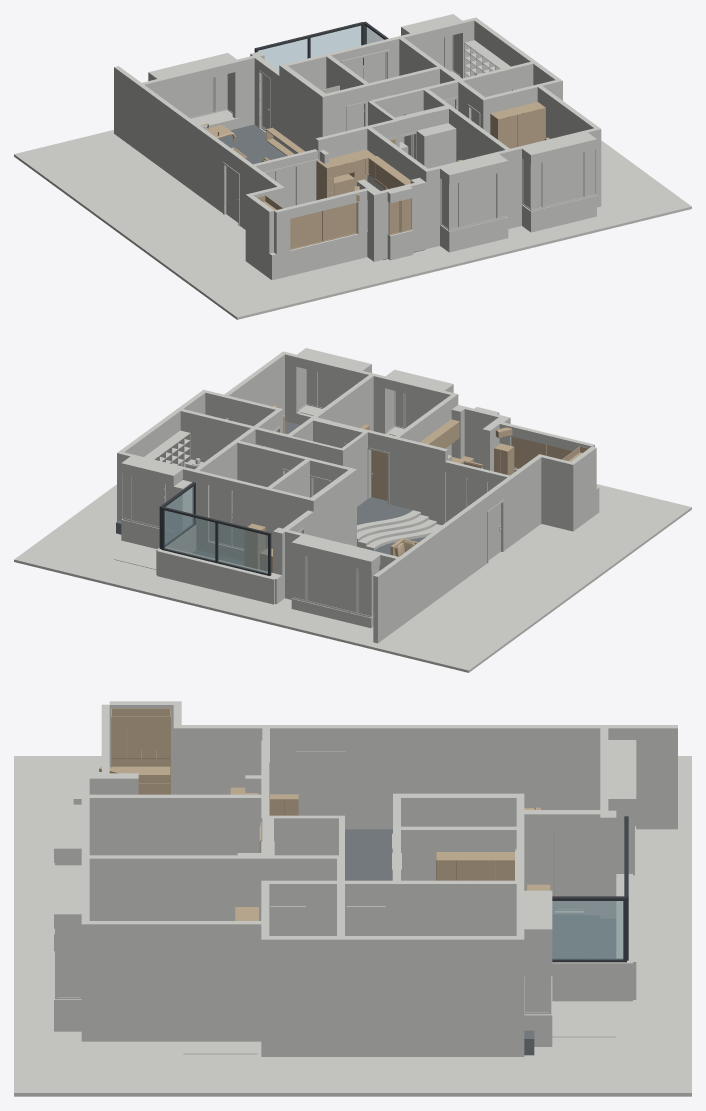
File: interaction_proxy.glb
The picture shows the model from 3 angles, top to bottom: view 1: azimuth 30°, elevation 25°; view 2: azimuth 150°, elevation 25°; view 3: azimuth 270°, elevation 25°; orthographic projection. The views are drawn at different scales.
Visible parts, largest first — view 1: SITE_GROUND.001, VIEW_WALL_W_wall_md_0006.001, VIEW_WALL_LIVING_FIX_GUEST_BATH_FULL_WALL.001, VIEW_WALL_W_wall_md_0042.001, VIEW_WALL_W_wall_md_0035.001, V4_W-MB-S_FRONT_GLASS_1.001, VIEW_WALL_W_wall_md_0034.001, V4_W-SMB-S_FRONT_GLASS_1.001, VIEW_WALL_W_wall_md_0007.001, VIEW_WALL_W_wall_md_0021.001, VIEW_WALL_W_wall_md_0030.001, VIEW_WALL_W_wall_md_0060.001 (+46 smaller); view 2: SITE_GROUND.001, VIEW_WALL_W_wall_md_0006.001, VIEW_WALL_W_wall_md_0062.001, VIEW_WALL_W_wall_md_0044.001, VIEW_WALL_W_wall_md_0005.001, VIEW_WALL_W_wall_md_0055.001, VIEW_WALL_W_wall_md_0043.001, VIEW_WALL_LIVING_FIX_GUEST_BATH_FULL_WALL.001, LIVING_FIX_BAY_FRONT_GLASS_1.001, VIEW_WALL_W_wall_md_0049.001, NORTH_BALCONY_GLASS_NORTH_B.001, VIEW_WALL_W_wall_md_0007.001 (+54 smaller); view 3: SITE_GROUND.001, VIEW_WALL_W_wall_md_0030.001, VIEW_WALL_W_wall_md_0033.001, VIEW_WALL_W_wall_md_0006.001, VIEW_WALL_W_wall_md_0021.001, VIEW_WALL_W_wall_md_0015.001, VIEW_WALL_W_wall_md_0032.001, VIEW_WALL_W_wall_md_0005.001, VIEW_WALL_W_wall_md_0025.001, FLOOR_LOWER.001, VIEW_WALL_W_wall_md_0007.001, NORTH_BALCONY_GLASS_EAST.001 (+38 smaller).
Part boxes in pixels (x1,y1,x2,y2): SITE_GROUND.001: (14,128,691,319); VIEW_WALL_W_wall_md_0006.001: (139,85,227,212); VIEW_WALL_LIVING_FIX_GUEST_BATH_FULL_WALL.001: (282,66,325,153); VIEW_WALL_W_wall_md_0042.001: (276,232,367,278); VIEW_WALL_W_wall_md_0035.001: (533,139,594,231); V4_W-MB-S_FRONT_GLASS_1.001: (543,152,583,206); VIEW_WALL_W_wall_md_0034.001: (451,161,505,251); V4_W-SMB-S_FRONT_GLASS_1.001: (460,174,496,226); VIEW_WALL_W_wall_md_0007.001: (114,66,141,150); VIEW_WALL_W_wall_md_0021.001: (449,107,509,161); VIEW_WALL_W_wall_md_0030.001: (537,86,598,138); VIEW_WALL_W_wall_md_0060.001: (232,55,254,128); SITE_GROUND.001: (14,484,691,672); VIEW_WALL_W_wall_md_0006.001: (399,495,487,624); VIEW_WALL_W_wall_md_0062.001: (157,547,277,604); VIEW_WALL_W_wall_md_0044.001: (396,437,441,524); VIEW_WALL_W_wall_md_0005.001: (499,456,541,550); VIEW_WALL_W_wall_md_0055.001: (196,470,266,561); VIEW_WALL_W_wall_md_0043.001: (541,455,575,531); VIEW_WALL_LIVING_FIX_GUEST_BATH_FULL_WALL.001: (311,470,354,545); LIVING_FIX_BAY_FRONT_GLASS_1.001: (307,556,356,612); VIEW_WALL_W_wall_md_0049.001: (180,409,253,462); NORTH_BALCONY_GLASS_NORTH_B.001: (164,510,215,560); VIEW_WALL_W_wall_md_0007.001: (373,559,400,643); SITE_GROUND.001: (14,756,691,1096); VIEW_WALL_W_wall_md_0030.001: (89,921,261,1041); VIEW_WALL_W_wall_md_0033.001: (345,936,516,1056); VIEW_WALL_W_wall_md_0006.001: (345,725,600,829); VIEW_WALL_W_wall_md_0021.001: (89,855,261,920); VIEW_WALL_W_wall_md_0015.001: (89,794,261,855); VIEW_WALL_W_wall_md_0032.001: (261,936,336,1056); VIEW_WALL_W_wall_md_0005.001: (181,725,296,794); VIEW_WALL_W_wall_md_0025.001: (401,880,516,935); FLOOR_LOWER.001: (345,829,616,958); VIEW_WALL_W_wall_md_0007.001: (608,725,677,829); NORTH_BALCONY_GLASS_EAST.001: (552,901,623,959).
Size of the model in its own units: 20 by 3.37 by 17.
